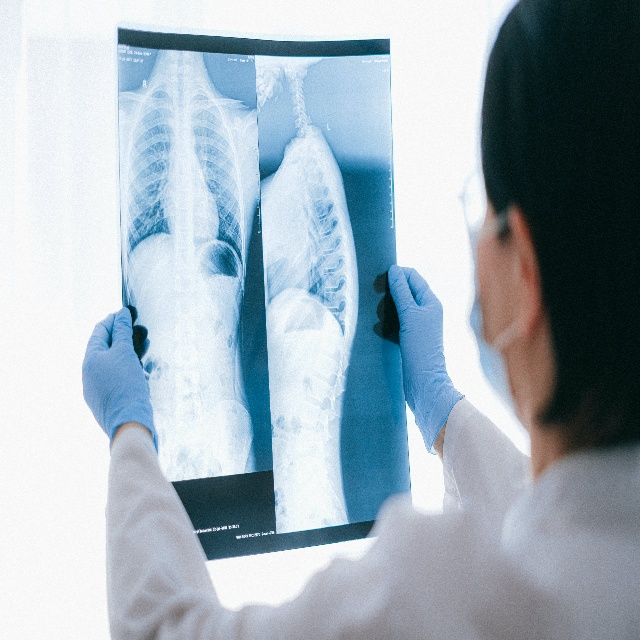Gafas: (456, 168, 495, 252)
Guantes: (389, 263, 462, 455), (80, 314, 165, 450)
Mascara: (467, 294, 529, 413)
Sin_guantes: (388, 260, 460, 441), (79, 305, 164, 453)
